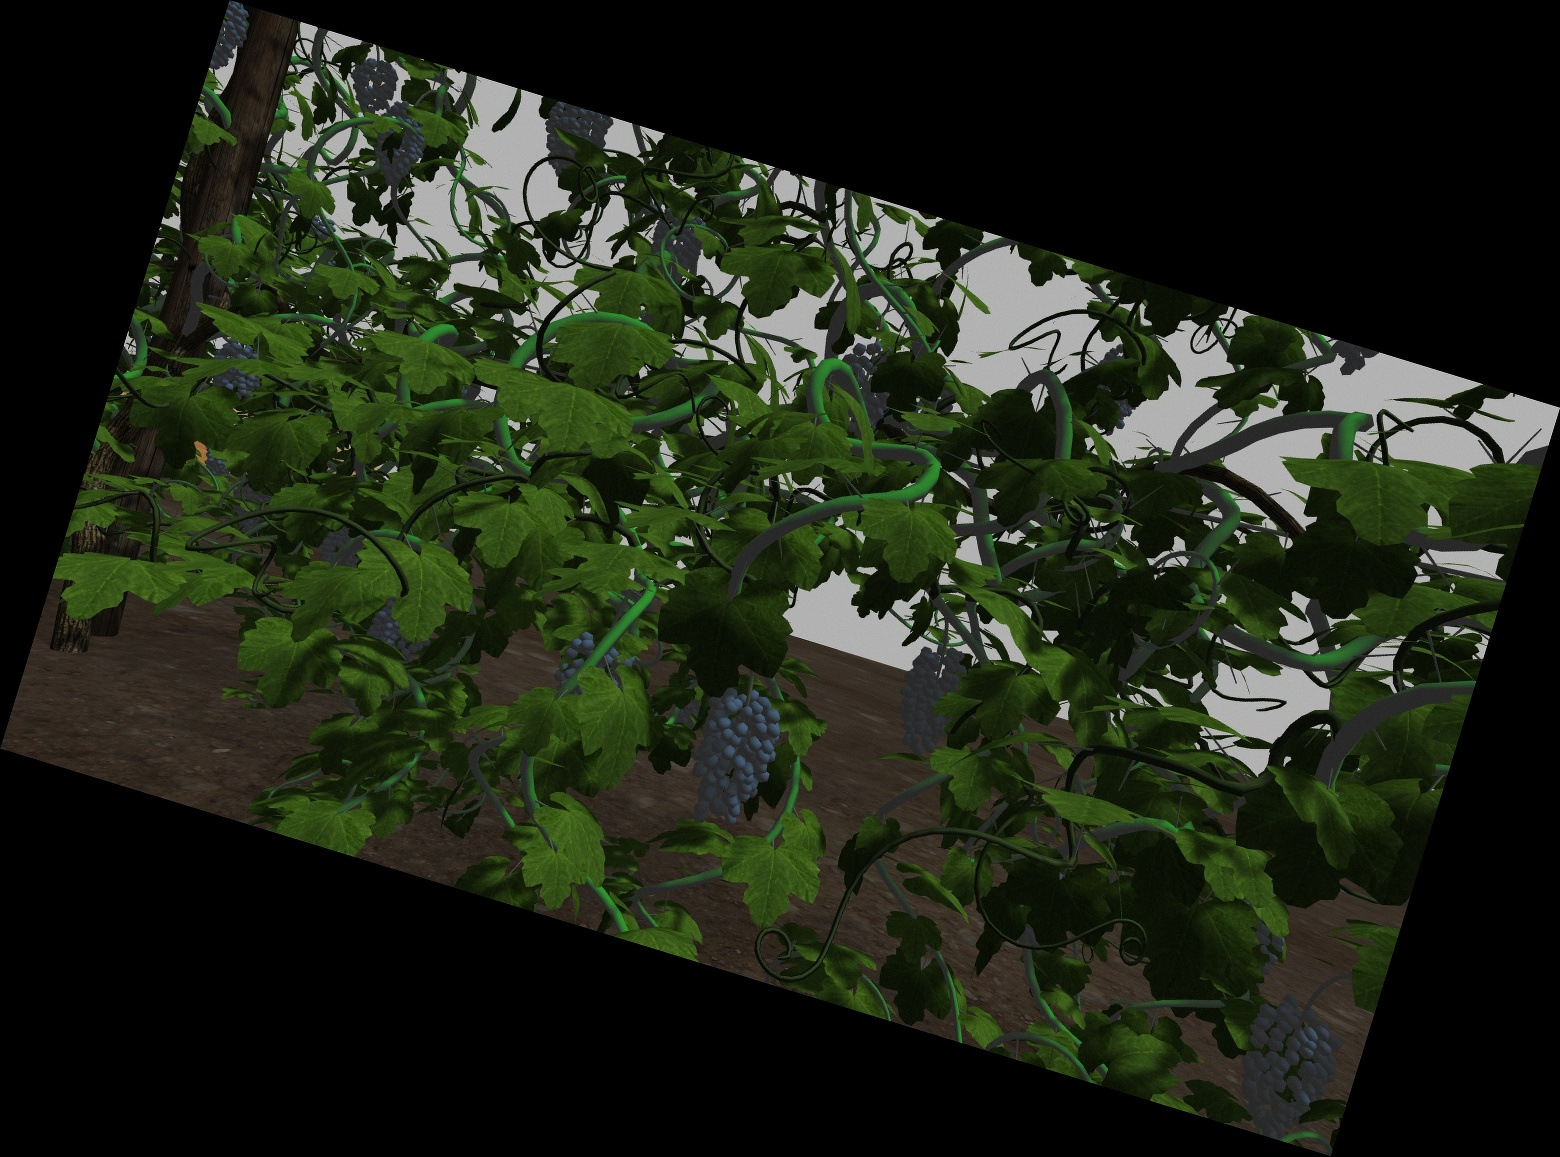grape: (1243, 997, 1333, 1129), (695, 693, 773, 826), (895, 651, 963, 756), (539, 112, 604, 177), (374, 109, 424, 184), (652, 214, 701, 277), (347, 61, 399, 111), (214, 342, 261, 395)
